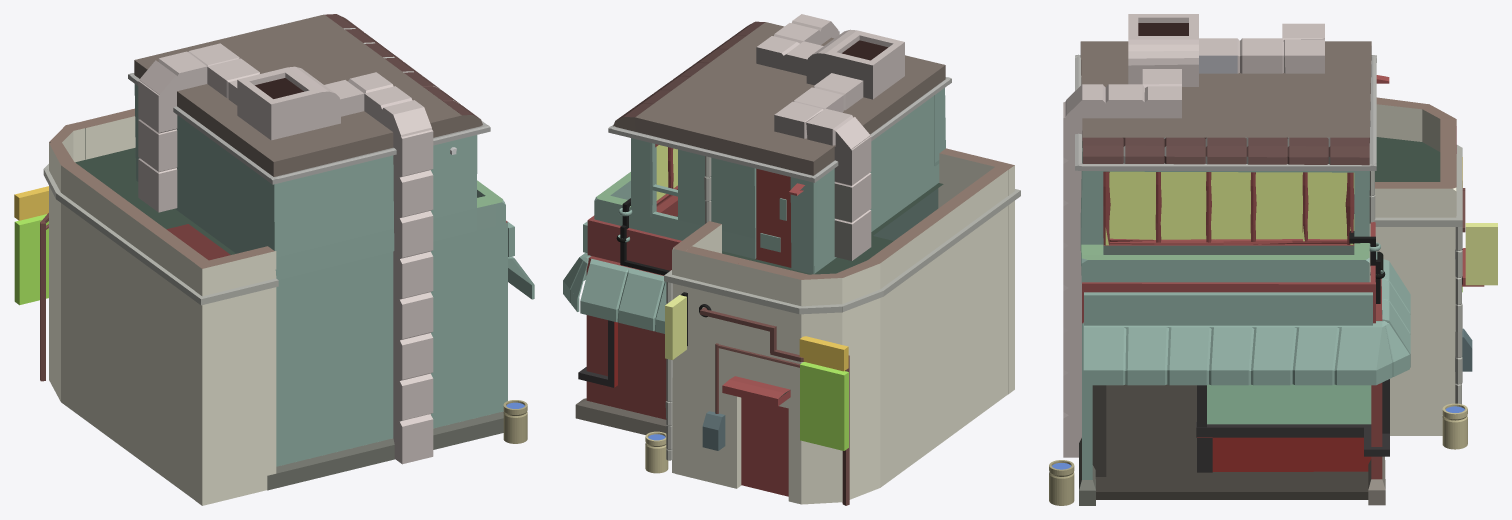
Rendered from house.glb.
The picture shows the model from 3 angles, left to right: view 1: azimuth 30°, elevation 25°; view 2: azimuth 150°, elevation 25°; view 3: azimuth 270°, elevation 25°; orthographic projection. The views are drawn at different scales.
Visible parts, largest first — view 1: Cube.005, Cube.001, Cube.003, Cube.015, Cube.007, Cube.010, Cube.032, Plane.002, Cube.008, Cylinder.003, Cube.037, Cube.002 (+1 smaller); view 2: Cube.005, Cube.015, Cube.003, Cube.009, Cube.002, Cube.010, Cube.014, Cube.032, Cube.031, Cube.007, Cube.008, Cube.016 (+10 smaller); view 3: Cube.015, Cube.014, Cube.003, Cube.005, Plane, Plane.003, Cube.016, Cube.007, Cube, Plane.001, Cube.020, Cube.001 (+10 smaller).
Boxes of the visible parts, x1,y1,x2,y2 form: Cube.005: [49, 108, 276, 505]; Cube.001: [267, 222, 507, 490]; Cube.003: [138, 43, 433, 464]; Cube.015: [128, 14, 490, 184]; Cube.007: [263, 135, 505, 279]; Cube.010: [136, 115, 263, 253]; Cube.032: [14, 186, 48, 305]; Plane.002: [75, 147, 235, 254]; Cube.008: [43, 164, 278, 305]; Cylinder.003: [503, 400, 527, 443]; Cube.037: [40, 213, 48, 381]; Cube.002: [167, 224, 230, 260]; Cube.005: [672, 148, 1014, 504]; Cube.015: [608, 21, 951, 182]; Cube.003: [756, 14, 904, 260]; Cube.009: [650, 142, 817, 274]; Cube.002: [575, 256, 666, 434]; Cube.010: [814, 95, 939, 273]; Cube.014: [563, 253, 666, 333]; Cube.032: [799, 336, 848, 450]; Cube.031: [741, 397, 788, 496]; Cube.007: [594, 88, 945, 232]; Cube.008: [664, 189, 1020, 314]; Cube.016: [583, 215, 681, 270]; Cube.015: [1075, 41, 1376, 170]; Cube.014: [1083, 259, 1410, 385]; Cube.003: [1063, 14, 1324, 457]; Cube.005: [1369, 97, 1484, 435]; Plane: [1095, 384, 1368, 499]; Plane.003: [1105, 171, 1354, 245]; Cube.016: [1082, 222, 1385, 325]; Cube.007: [1080, 141, 1380, 283]; Cube: [1196, 322, 1389, 472]; Plane.001: [1207, 384, 1371, 424]; Cube.020: [1103, 171, 1354, 254]; Cube.001: [1079, 323, 1106, 505].
Size of the model in its own units: 40.35 by 41.36 by 44.45.
